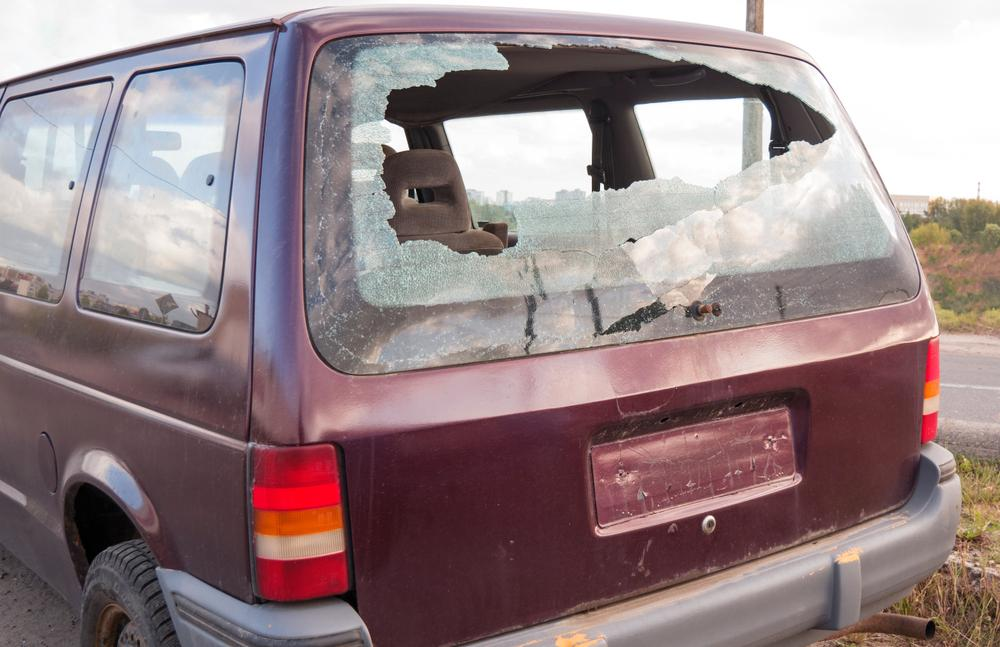glass shatter: (305, 32, 921, 375)
